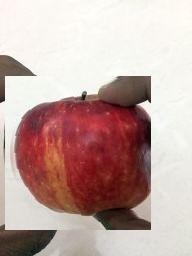Apple Semifresh: (5, 76, 151, 230)
